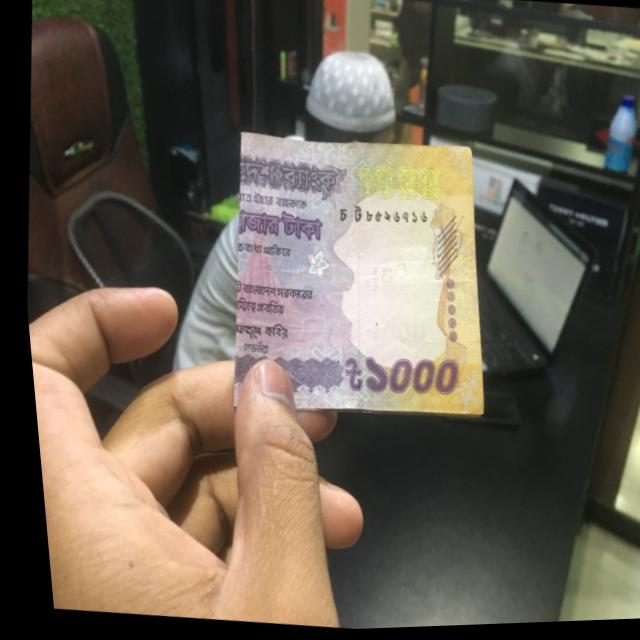Taka: (210, 128, 502, 424)
